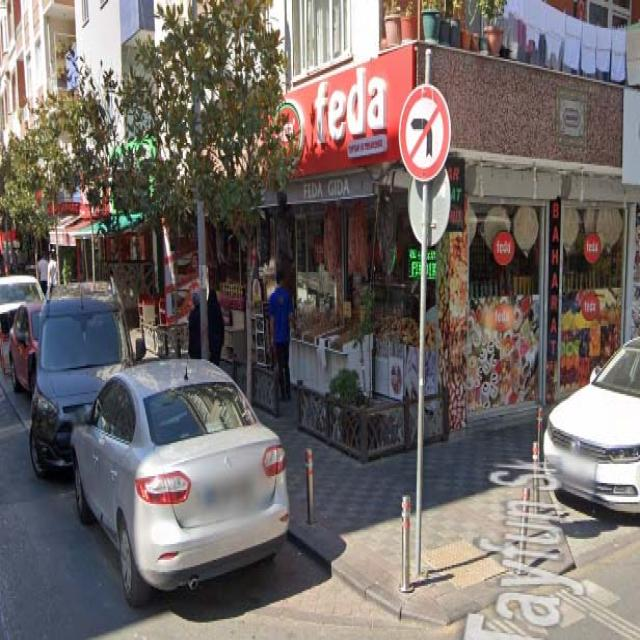soladonulmez: (400, 84, 451, 181)
